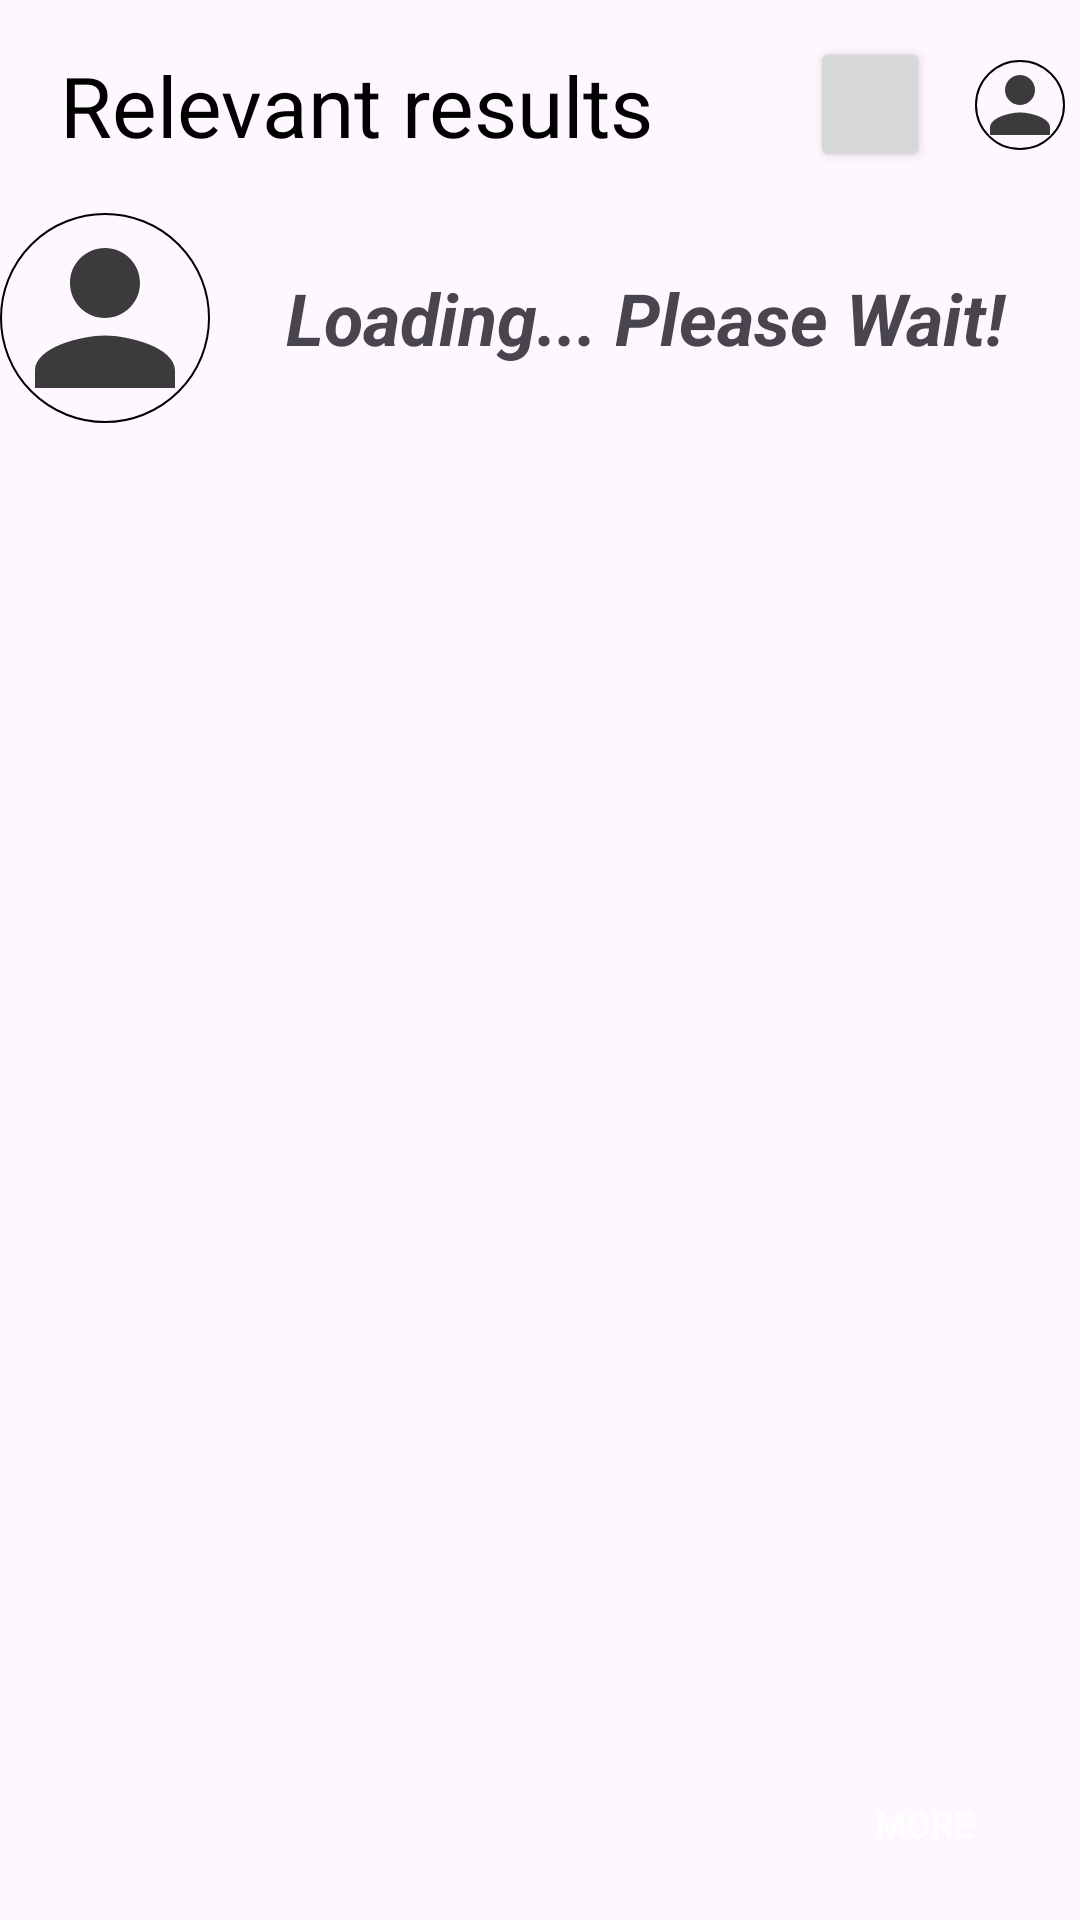

Screen size 1080x1920. Icon name, then its box in pixels as BBox(x1, y1, x2, y2):
Profile picture: BBox(975, 60, 1065, 150), BBox(0, 213, 210, 423)
